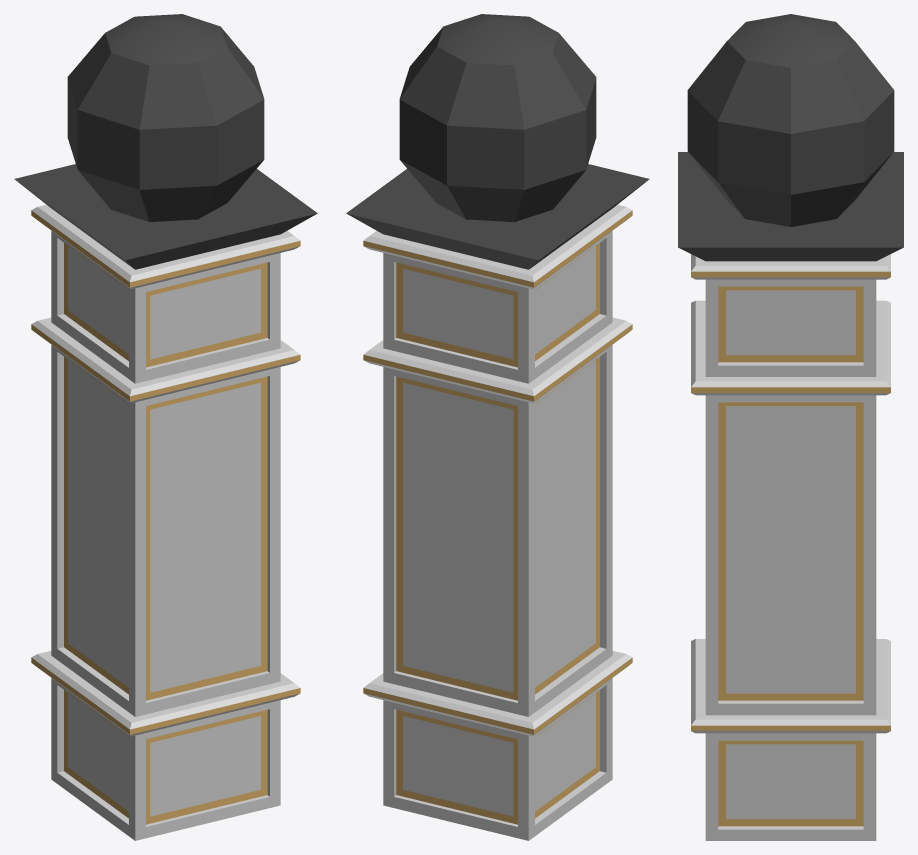
The model's file is P_J_FENCE WALL .fbx.
3 renders of one model, left to right at view 1: azimuth 30°, elevation 25°; view 2: azimuth 150°, elevation 25°; view 3: azimuth 270°, elevation 25°, orthographic.
Visible parts, largest first — view 1: J_Fence_Wall; view 2: J_Fence_Wall; view 3: J_Fence_Wall.
Part boxes in pixels (left/top/right/bottom): J_Fence_Wall: left=14, top=14, right=317, bottom=840; J_Fence_Wall: left=346, top=14, right=649, bottom=840; J_Fence_Wall: left=678, top=14, right=903, bottom=840.
Bounding box in the file's own units: 103 × 395 × 103.
